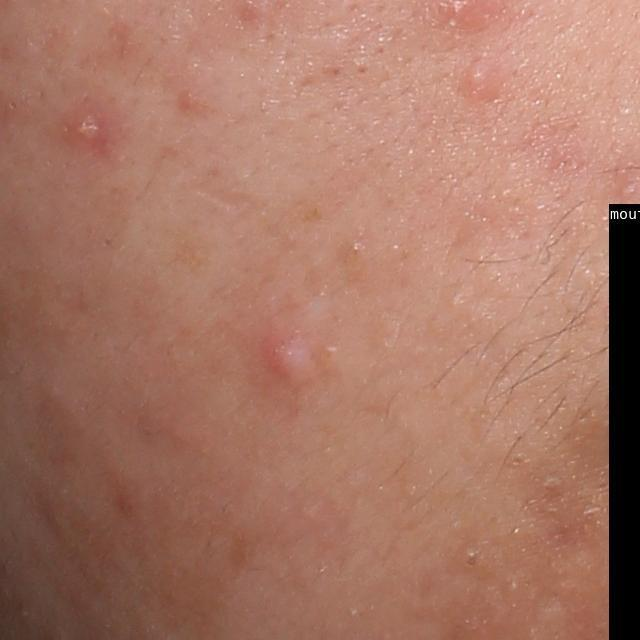papule: (265, 332, 311, 390), (463, 61, 499, 96)
